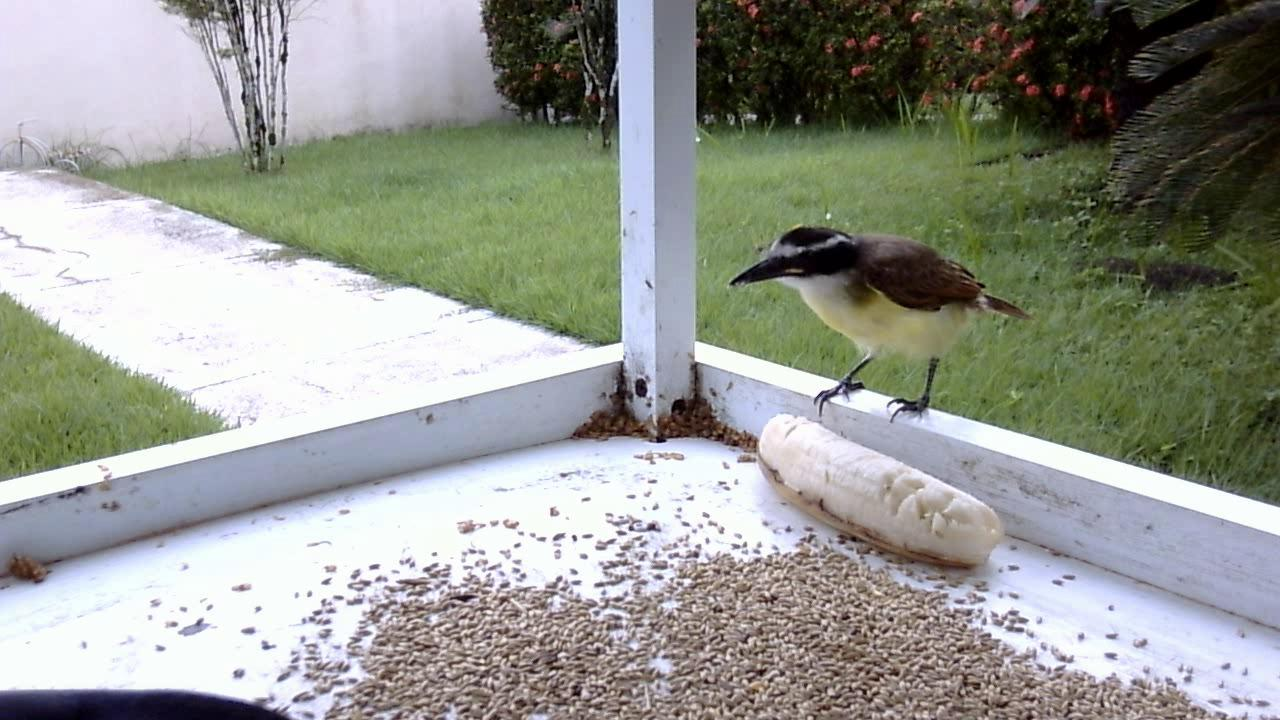bem_te_vi: (720, 215, 1031, 440)
